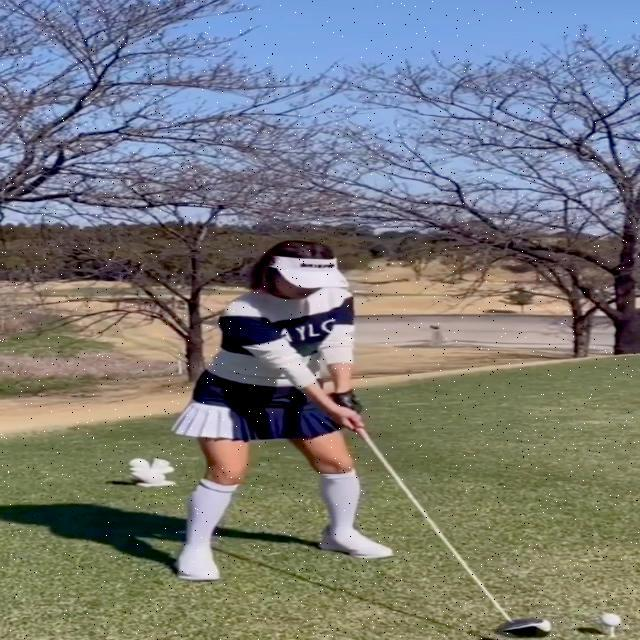golf ball: (600, 613, 624, 627)
golf club-handle: (334, 400, 562, 640)
golf club-head: (496, 617, 556, 638)
